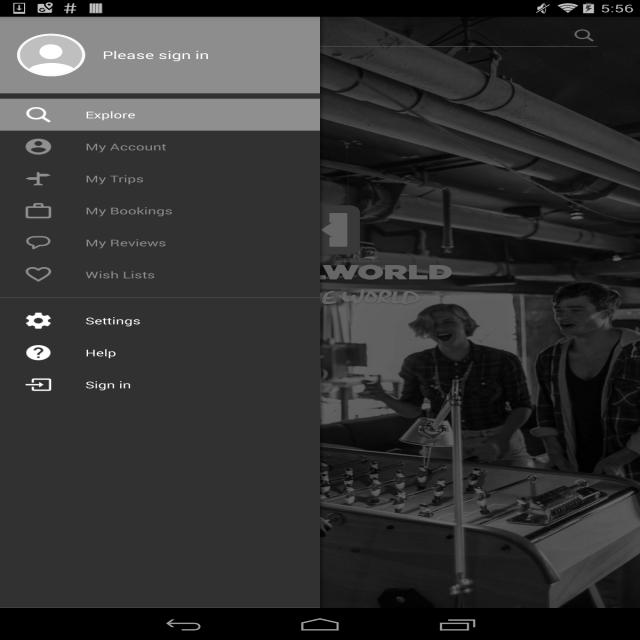EditText: (90, 24, 597, 52)
ImageButton: (9, 17, 68, 59), (571, 27, 597, 44)
ImageView: (0, 17, 640, 608), (187, 204, 453, 307), (17, 34, 85, 76), (26, 170, 51, 187), (26, 106, 51, 122), (26, 138, 51, 154), (26, 202, 51, 218), (26, 234, 51, 250), (26, 266, 51, 282), (26, 312, 51, 328), (26, 344, 51, 360), (26, 377, 51, 392)
TextView: (86, 108, 294, 121), (86, 140, 294, 153), (86, 172, 294, 185), (86, 204, 294, 217), (86, 236, 294, 249), (86, 268, 294, 281), (86, 314, 294, 327), (86, 346, 294, 359), (86, 378, 294, 391), (102, 48, 209, 62)
